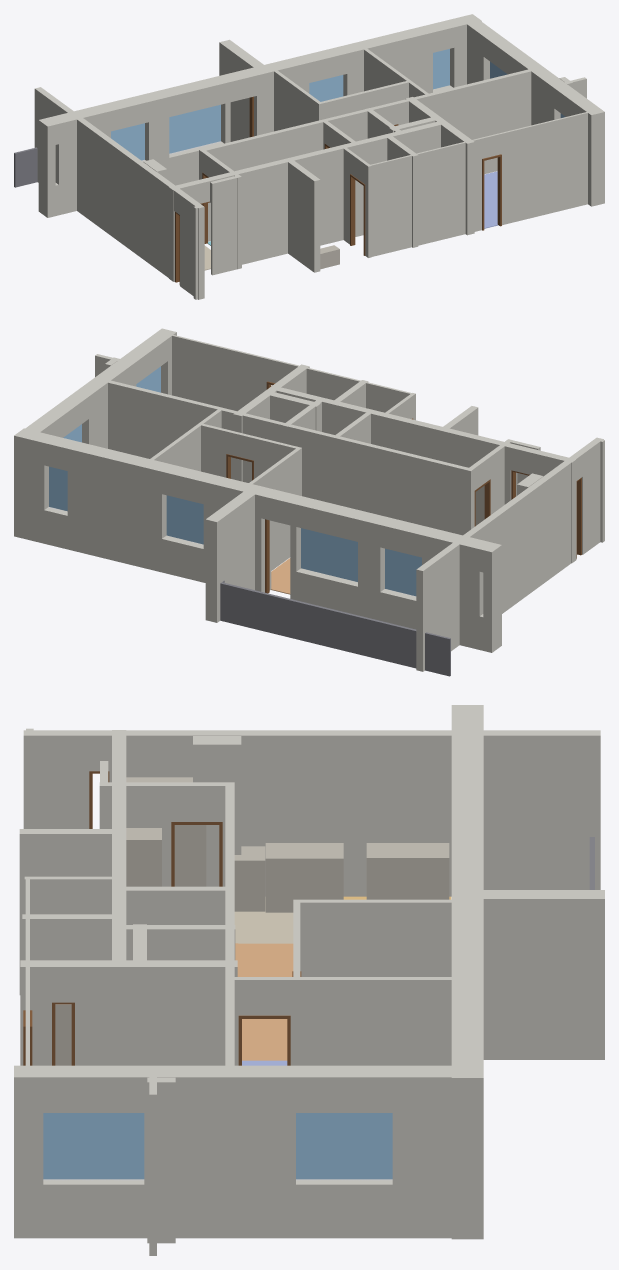
3 renders of one model, top to bottom at view 1: azimuth 30°, elevation 25°; view 2: azimuth 150°, elevation 25°; view 3: azimuth 270°, elevation 25°, orthographic. The views are drawn at different scales.
Visible parts, largest first — view 1: walls, window_5, railings, window_0, floor_10_Bed_Room, window_1, door_14, window_2, door_13, furniture_9_toilet; view 2: walls, railings, window_5, window_1, window_0, window_2, floor_2_Living_Room; view 3: walls, window_6, window_4, furniture_5_appliance, furniture_4_appliance, floor_2_Living_Room, furniture_1_closet, furniture_2_closet, furniture_10_sink, floor_3_Entry, furniture_3_closet.
Part boxes in pixels (left/top/right/bottom): walls: left=34, top=14, right=604, bottom=299; window_5: left=169, top=104, right=220, bottom=153; railings: left=14, top=147, right=37, bottom=187; window_0: left=111, top=123, right=144, bottom=160; floor_10_Bed_Room: left=484, top=171, right=498, bottom=228; window_1: left=309, top=75, right=343, bottom=101; door_14: left=350, top=174, right=365, bottom=255; window_2: left=433, top=49, right=449, bottom=89; door_13: left=482, top=154, right=501, bottom=230; furniture_9_toilet: left=320, top=245, right=339, bottom=269; walls: left=14, top=328, right=604, bottom=671; railings: left=220, top=580, right=450, bottom=676; window_5: left=301, top=528, right=357, bottom=581; window_1: left=166, top=495, right=203, bottom=544; window_0: left=385, top=548, right=421, bottom=596; window_2: left=49, top=466, right=67, bottom=511; floor_2_Living_Room: left=271, top=558, right=290, bottom=594; walls: left=14, top=705, right=604, bottom=1255; window_6: left=43, top=1113, right=144, bottom=1179; window_4: left=296, top=1113, right=392, bottom=1179; furniture_5_appliance: left=265, top=843, right=343, bottom=912; furniture_4_appliance: left=366, top=843, right=449, bottom=899; floor_2_Living_Room: left=235, top=943, right=293, bottom=1060; furniture_1_closet: left=126, top=777, right=206, bottom=886; furniture_2_closet: left=126, top=828, right=161, bottom=886; furniture_10_sink: left=234, top=846, right=265, bottom=911; floor_3_Entry: left=234, top=897, right=293, bottom=943; furniture_3_closet: left=55, top=1004, right=71, bottom=1065.
Size of the model in its own units: 14 by 2.72 by 8.97.
